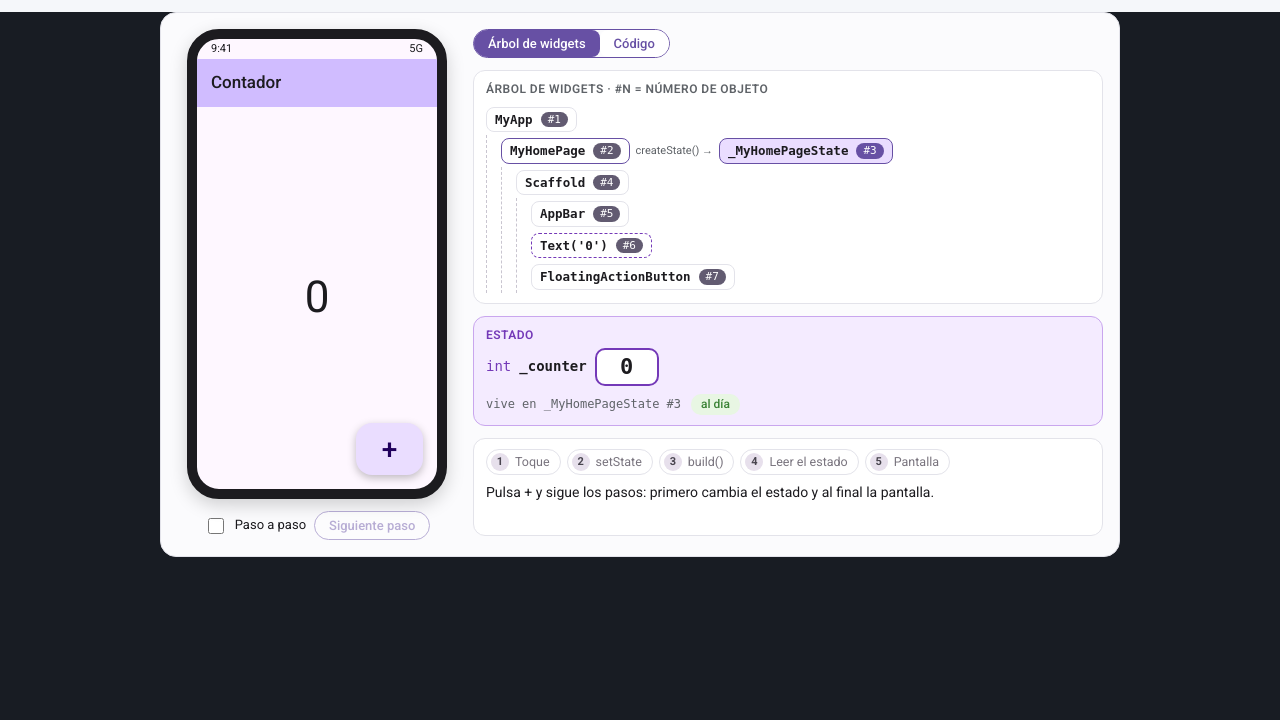
it: state-tree › waits for Siguiente paso in step-by-step mode
Click the checkbox labelled "Paso a paso".
click(216, 526)  # box [208,518,224,534]
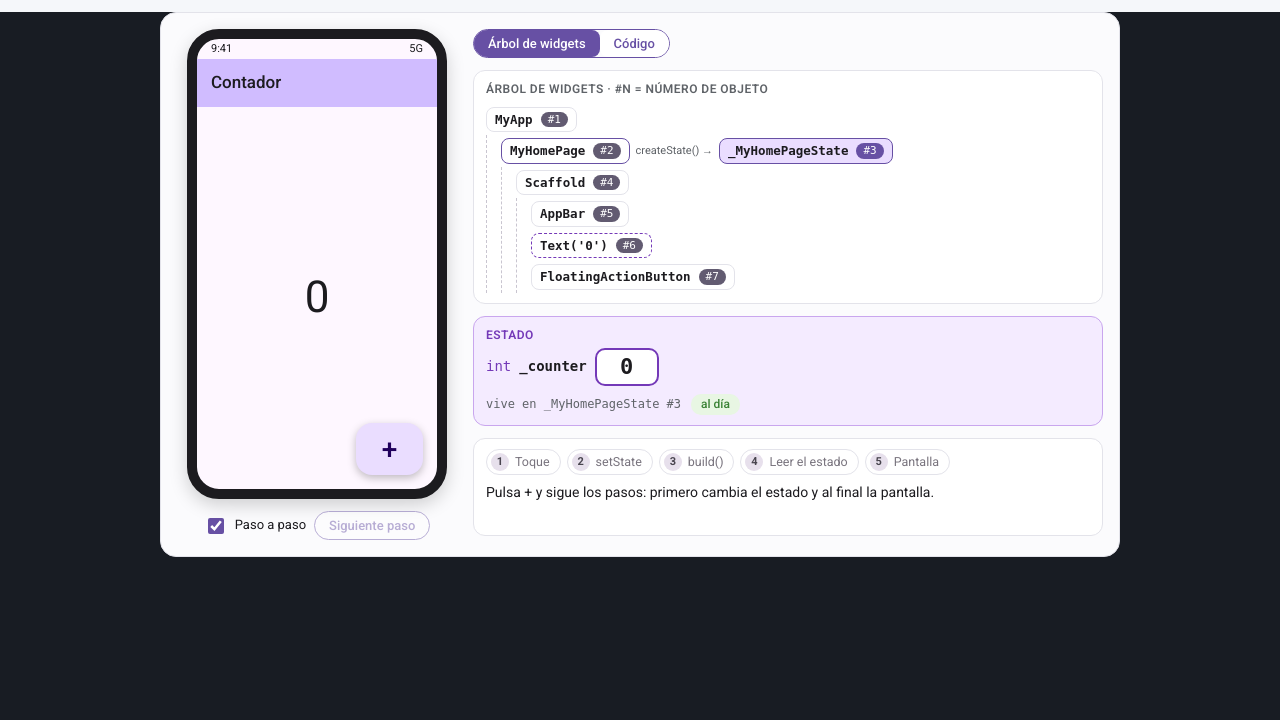
Click the button named "Incrementar".
click(389, 449)  # box [356,423,423,475]
Wait 5500 ms
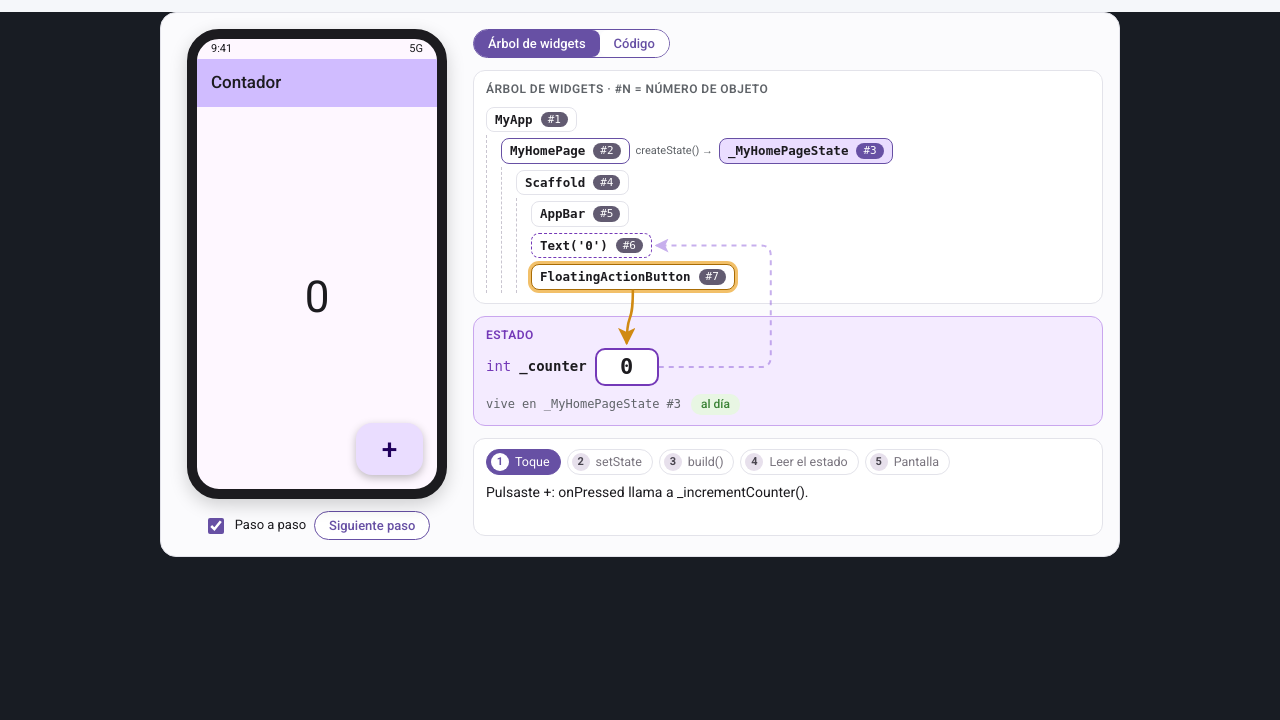
Expected: the text with test id "var-_counter" reads "0", [620,354,633,379]
Click the button "Siguiente paso".
click(372, 526)  # box [314,511,430,540]
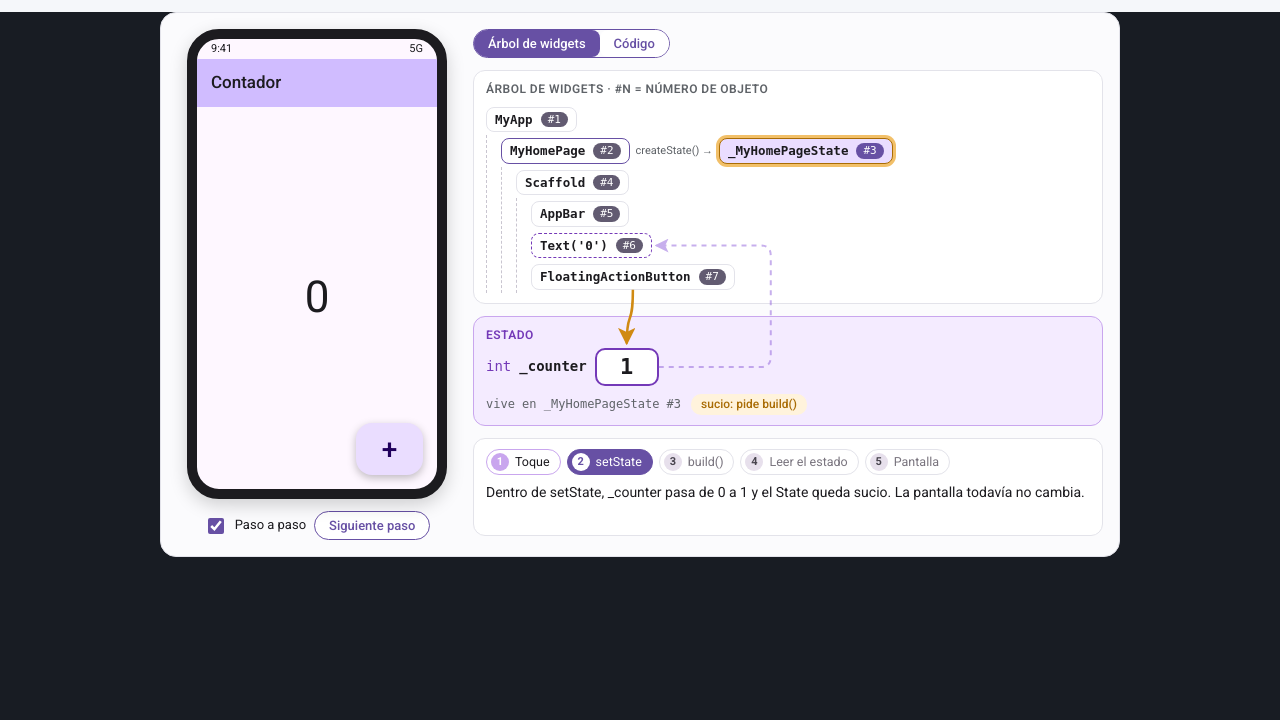
Now the text with test id "var-_counter" reads "1", box [620,354,633,379]
